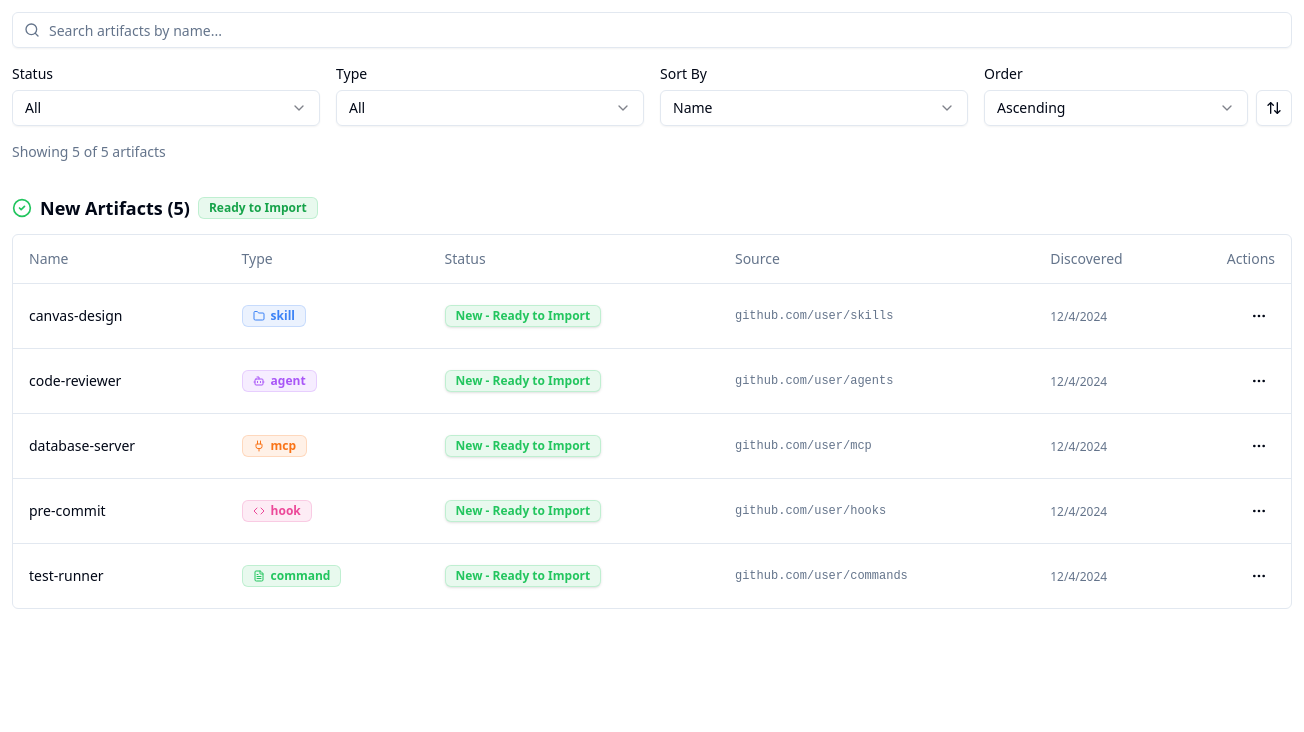
DiscoveryTab › Interaction Tests › ArtifactActions menu appears and works
The width and height of the screenshot is (1304, 732).
Click the button named "actions for" at (1259, 316), box [1243,300,1275,332]
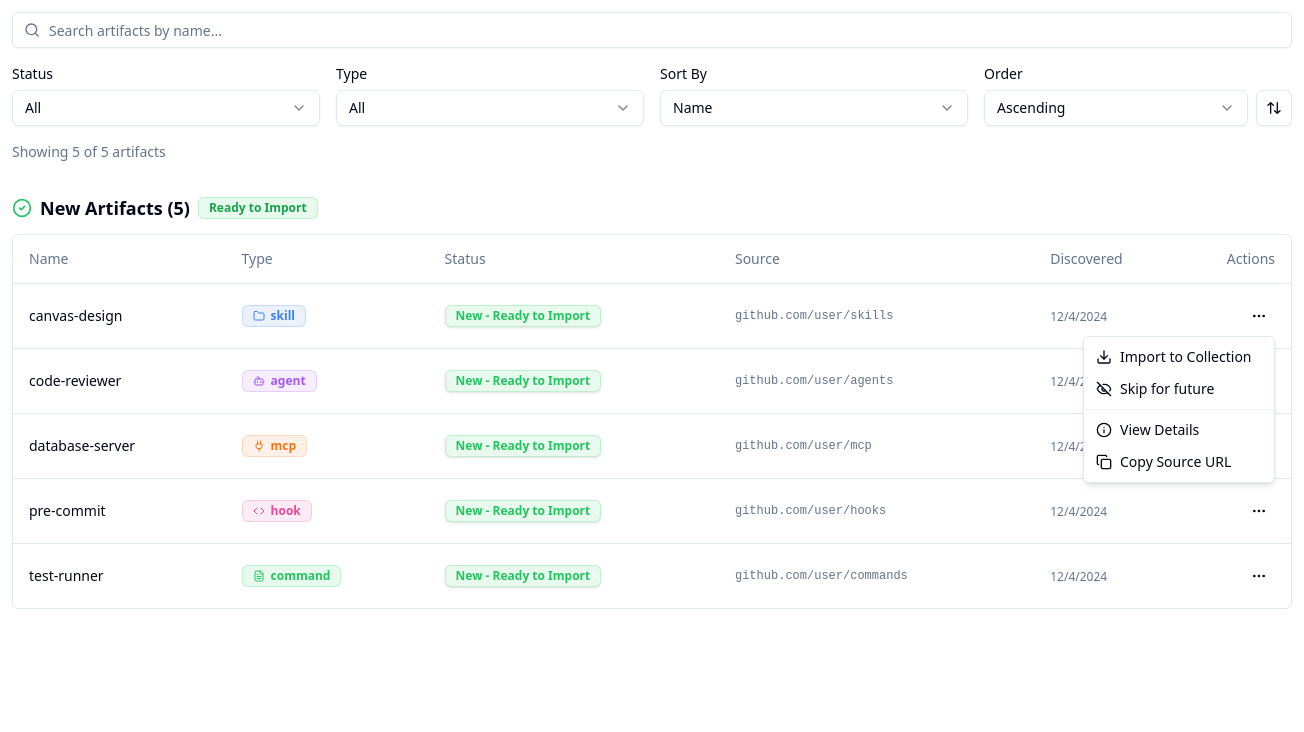
expect the menu is shown: met, box [1083,336,1275,483]
